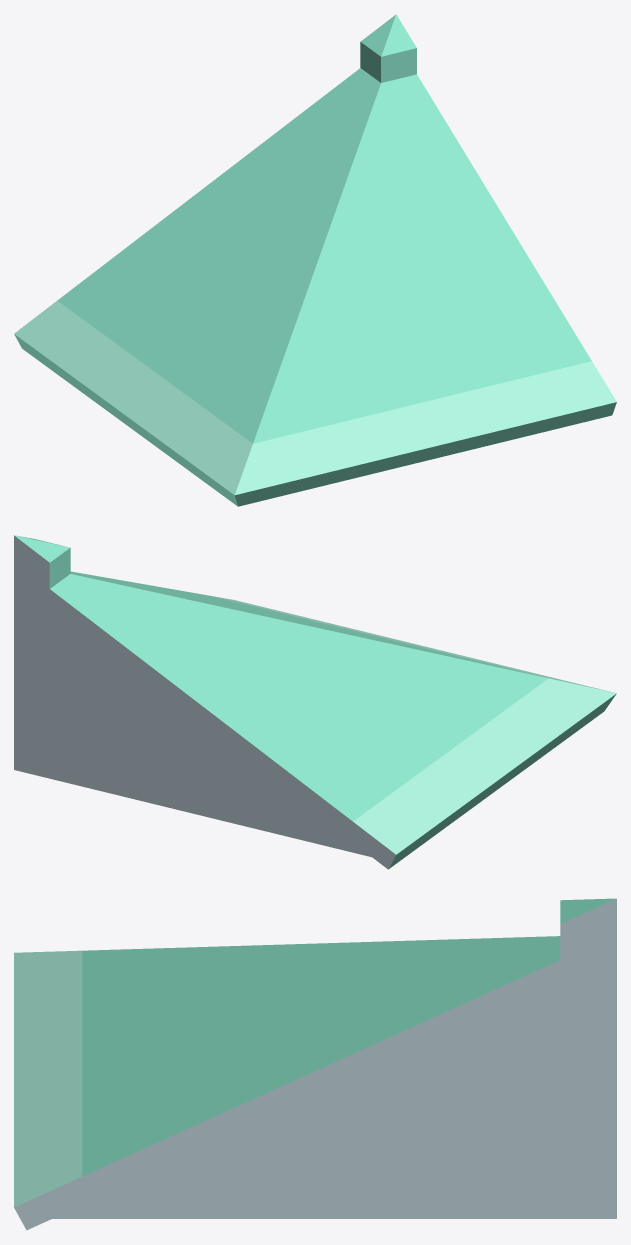
3 renders of one model, top to bottom at view 1: azimuth 30°, elevation 25°; view 2: azimuth 150°, elevation 25°; view 3: azimuth 270°, elevation 25°, orthographic. The views are drawn at different scales.
Parts seen in each view (by area): view 1: roofCorner; view 2: roofCorner; view 3: roofCorner.
Boxes of the visible parts, <box> form: roofCorner: <box>14,14,616,506</box>; roofCorner: <box>14,535,616,869</box>; roofCorner: <box>14,898,616,1230</box>.
Size of the model in its own units: 1.07 by 0.6483 by 1.07.
